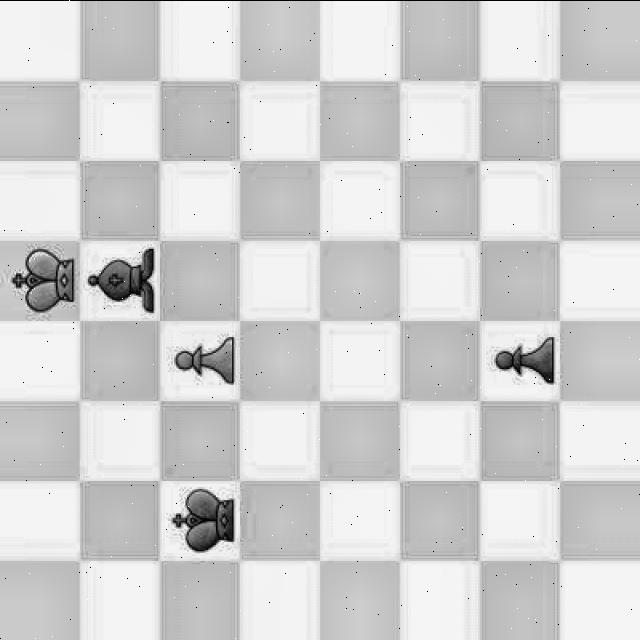black bishop: (80, 242, 158, 314)
black king: (155, 478, 243, 557)
black pawn: (477, 324, 561, 396)
white king: (0, 242, 77, 314)
white pawn: (167, 318, 240, 396)
